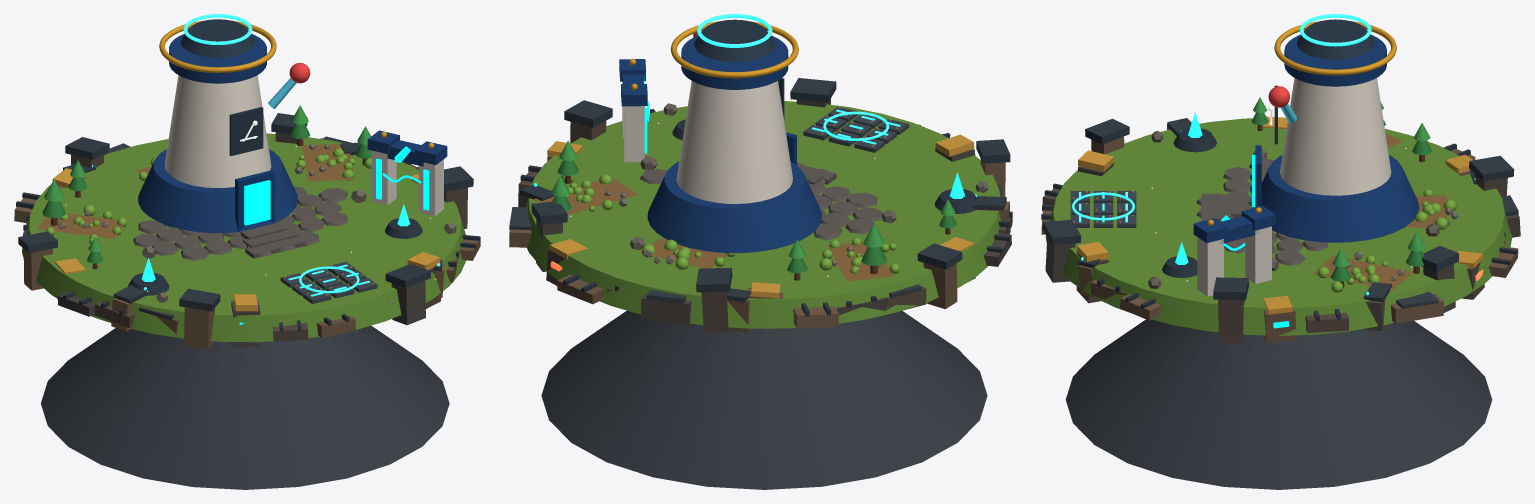
The model's file is island-02-switch__static.glb.
3 views of the same model, side by side, from view 1: azimuth 30°, elevation 25°; view 2: azimuth 150°, elevation 25°; view 3: azimuth 270°, elevation 25° (orthographic). The views are drawn at different scales.
Parts seen in each view (by area): view 1: I02_BASE, I02_TOWER, I02_STONE_PLAZA, I02_PORTAL, I02_DIRT_GRASS, I02_METAL_PATH, I02_TREES, I02_CRYSTALS, I02_ROCKS; view 2: I02_BASE, I02_TOWER, I02_DIRT_GRASS, I02_STONE_PLAZA, I02_METAL_PATH, I02_PORTAL, I02_TREES, I02_CRYSTALS, I02_ROCKS; view 3: I02_BASE, I02_TOWER, I02_PORTAL, I02_DIRT_GRASS, I02_STONE_PLAZA, I02_METAL_PATH, I02_TREES, I02_CRYSTALS, I02_ROCKS.
Part boxes in pixels (x1,y1,x2,y2): I02_BASE: (14, 113, 480, 489); I02_TOWER: (138, 14, 310, 258); I02_STONE_PLAZA: (133, 186, 347, 260); I02_PORTAL: (367, 130, 447, 215); I02_DIRT_GRASS: (37, 144, 371, 244); I02_METAL_PATH: (280, 261, 377, 303); I02_TREES: (42, 105, 371, 269); I02_CRYSTALS: (128, 204, 422, 295); I02_ROCKS: (142, 189, 456, 302); I02_BASE: (509, 78, 1012, 489); I02_TOWER: (647, 14, 836, 253); I02_DIRT_GRASS: (534, 174, 899, 281); I02_STONE_PLAZA: (639, 162, 883, 240); I02_METAL_PATH: (803, 106, 909, 152); I02_PORTAL: (619, 58, 649, 162); I02_TREES: (551, 140, 956, 280); I02_CRYSTALS: (672, 119, 976, 213); I02_ROCKS: (630, 103, 988, 249); I02_BASE: (1041, 116, 1520, 489); I02_TOWER: (1201, 14, 1419, 242); I02_PORTAL: (1193, 205, 1275, 296); I02_DIRT_GRASS: (1312, 133, 1458, 292); I02_STONE_PLAZA: (1196, 158, 1328, 265); I02_METAL_PATH: (1070, 191, 1136, 227); I02_TREES: (1251, 97, 1431, 288); I02_CRYSTALS: (1162, 112, 1216, 277); I02_ROCKS: (1148, 131, 1439, 288).
Bounding box in the file's own units: 8.93 × 7.58 × 8.88.
